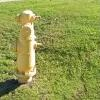a fire hydrant: (11, 9, 44, 80)
